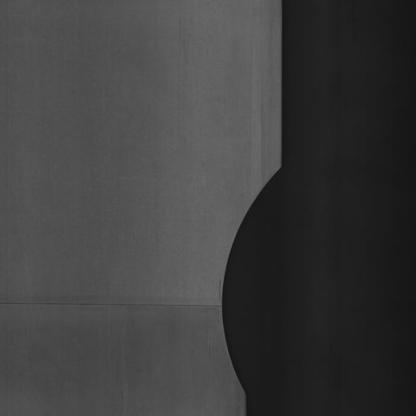crescent_gap: (214, 160, 303, 402)
welding_line: (0, 286, 233, 314)
